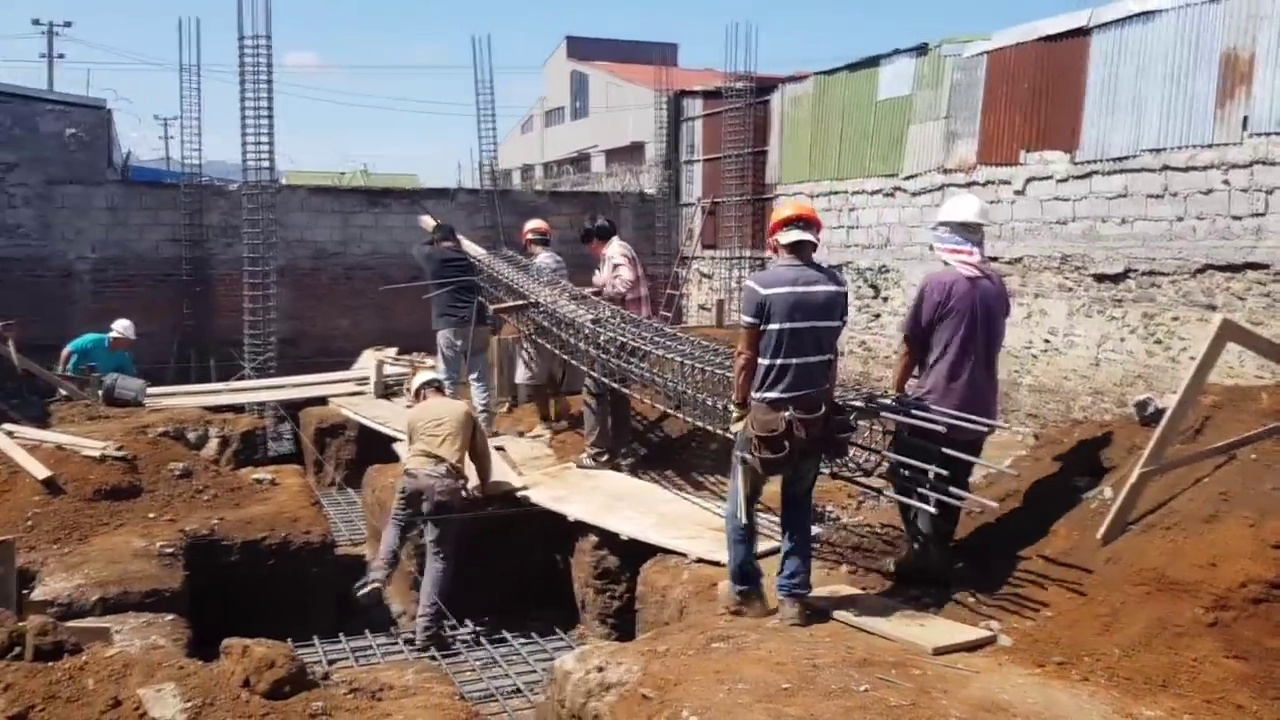helmet: (768, 196, 830, 250), (930, 191, 993, 237), (407, 374, 443, 399), (519, 218, 551, 243), (109, 320, 137, 341)
helmet-off: (586, 215, 619, 256), (429, 219, 459, 247)
helmet-on: (933, 189, 994, 271), (770, 197, 830, 265), (519, 216, 556, 259), (407, 374, 446, 405), (107, 320, 137, 353)
person: (718, 191, 848, 617), (884, 182, 1019, 585), (356, 372, 483, 640), (573, 213, 648, 478), (424, 219, 498, 424), (509, 214, 575, 442), (58, 320, 136, 379)
